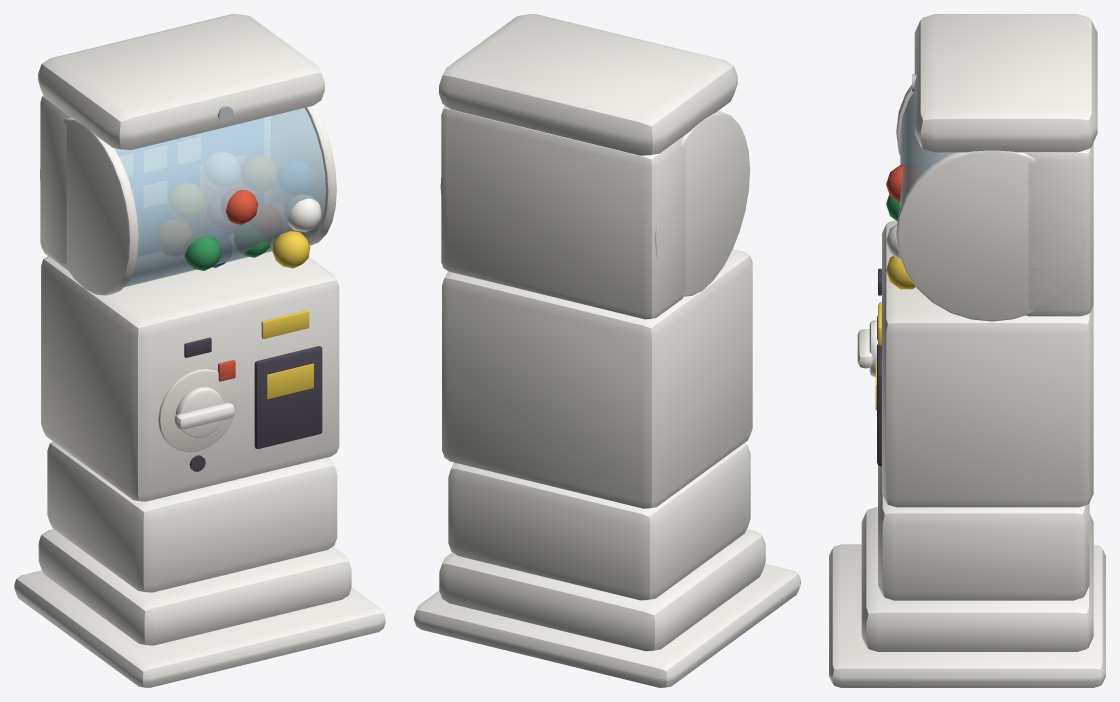
File: gacha_kit.glb
3 views of the same model, side by side, from view 1: azimuth 30°, elevation 25°; view 2: azimuth 150°, elevation 25°; view 3: azimuth 270°, elevation 25° (orthographic). The views are drawn at different scales.
Parts seen in each view (by area): view 1: ITEM_GACHA; view 2: ITEM_GACHA; view 3: ITEM_GACHA.
Boxes of the visible parts, box(x1,y1,x2,y2) form: ITEM_GACHA: box(14, 14, 385, 687); ITEM_GACHA: box(414, 14, 800, 687); ITEM_GACHA: box(829, 14, 1105, 687).
Size of the model in its own units: 0.74 by 1.54 by 0.68.
Materials: 2 (2 with a texture image).
